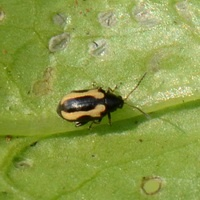insect: (57, 73, 145, 127)
